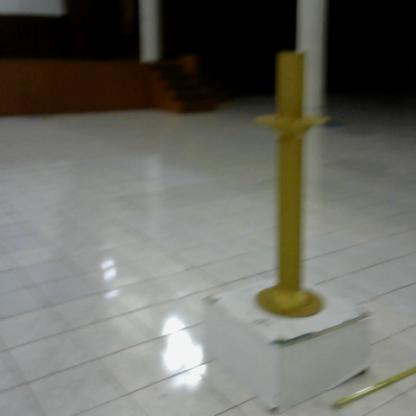pole: (244, 43, 338, 332)
